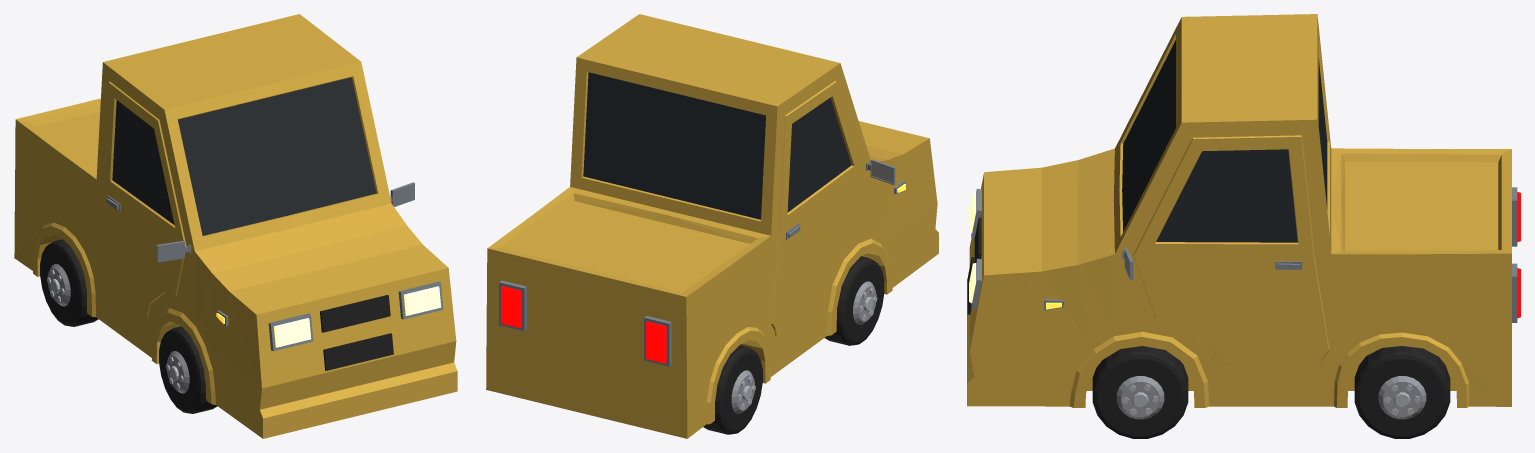
The model's file is SK_Car_02_AsStaticMesh.fbx.
3 views of the same model, side by side, from view 1: azimuth 30°, elevation 25°; view 2: azimuth 150°, elevation 25°; view 3: azimuth 270°, elevation 25° (orthographic). The views are drawn at different scales.
Visible parts, largest first — view 1: SK_Car_02_AsStaticMesh_LOD0; view 2: SK_Car_02_AsStaticMesh_LOD0; view 3: SK_Car_02_AsStaticMesh_LOD0.
Part boxes in pixels (bbox=[...]): SK_Car_02_AsStaticMesh_LOD0: bbox=[14, 14, 457, 438]; SK_Car_02_AsStaticMesh_LOD0: bbox=[486, 14, 938, 438]; SK_Car_02_AsStaticMesh_LOD0: bbox=[967, 14, 1520, 438].
Size of the model in its own units: 194 by 329 by 209.
Materials: 1 (1 with a texture image).
